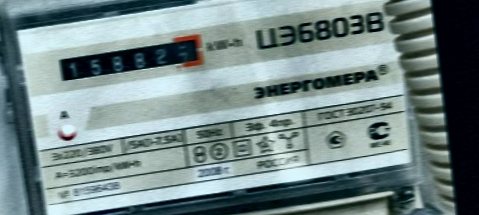1: (67, 59, 79, 78)
2: (154, 46, 167, 64)
5: (88, 56, 102, 75)
7: (176, 49, 189, 63)
8: (110, 53, 123, 71), (133, 50, 145, 67)
screen: (51, 30, 210, 86)
